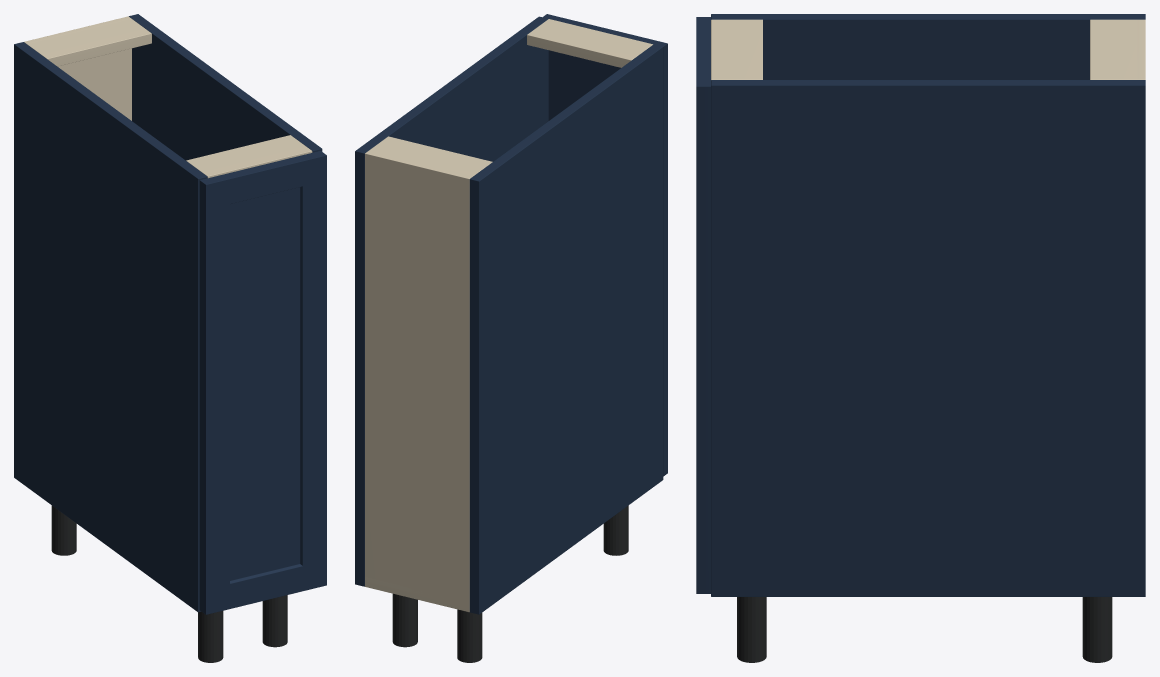
File: oppein-ply-bss-b09fh.glb
3 views of the same model, side by side, from view 1: azimuth 30°, elevation 25°; view 2: azimuth 150°, elevation 25°; view 3: azimuth 270°, elevation 25° (orthographic). The views are drawn at different scales.
Visible parts, largest first — view 1: Cabinet side, Door, Cabinet side.001, Cabinet back, Top support rail, Top support rail.001, Adjustable foot.001, Adjustable foot.003, Adjustable foot; view 2: Cabinet side, Cabinet back, Cabinet side.001, Door, Top support rail.001, Top support rail, Adjustable foot, Adjustable foot.002, Adjustable foot.001, Cabinet bottom; view 3: Cabinet side.001, Cabinet side, Door, Top support rail.001, Top support rail, Adjustable foot.002, Adjustable foot.003.
Part boxes in pixels (bbox=[...]): Cabinet side: bbox=[14, 42, 207, 612]; Door: bbox=[199, 151, 326, 614]; Cabinet side.001: bbox=[129, 14, 322, 160]; Cabinet back: bbox=[24, 16, 131, 120]; Top support rail: bbox=[26, 19, 151, 66]; Top support rail.001: bbox=[186, 135, 312, 178]; Adjustable foot.001: bbox=[198, 611, 223, 662]; Adjustable foot.003: bbox=[262, 595, 287, 647]; Adjustable foot: bbox=[51, 505, 76, 555]; Cabinet side: bbox=[469, 44, 663, 614]; Cabinet back: bbox=[365, 151, 472, 611]; Cabinet side.001: bbox=[355, 16, 548, 586]; Door: bbox=[543, 14, 667, 476]; Top support rail.001: bbox=[527, 19, 652, 67]; Top support rail: bbox=[369, 136, 492, 176]; Adjustable foot: bbox=[457, 609, 482, 662]; Adjustable foot.002: bbox=[392, 593, 417, 647]; Adjustable foot.001: bbox=[603, 505, 628, 555]; Cabinet bottom: bbox=[365, 577, 469, 612]; Cabinet side.001: bbox=[711, 80, 1145, 596]; Cabinet side: bbox=[711, 14, 1145, 79]; Door: bbox=[696, 17, 710, 593]; Top support rail.001: bbox=[711, 19, 762, 79]; Top support rail: bbox=[1090, 19, 1141, 79]; Adjustable foot.002: bbox=[1082, 597, 1112, 662]; Adjustable foot.003: bbox=[737, 597, 766, 662].
Bounding box in the file's own units: 0.2286 × 0.8763 × 0.6064.
